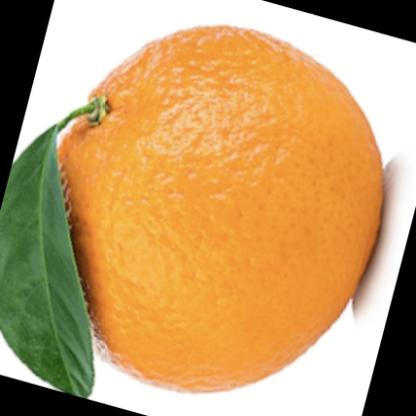fresh: (30, 26, 386, 395)
